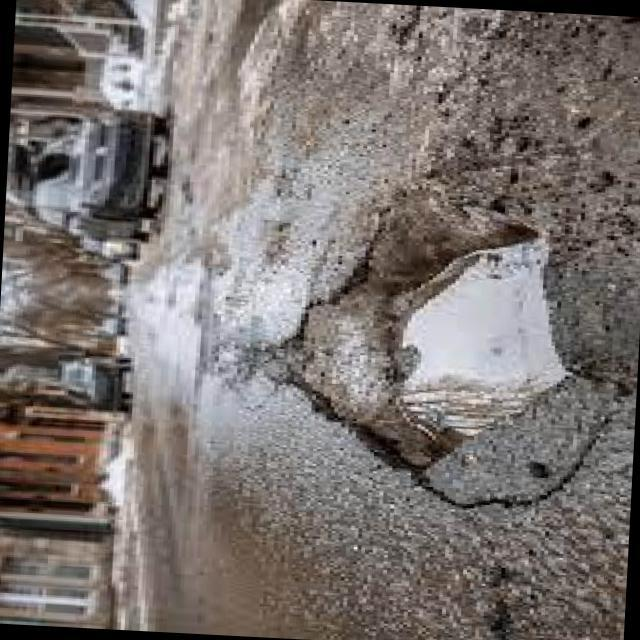pothole: (220, 174, 604, 500)
